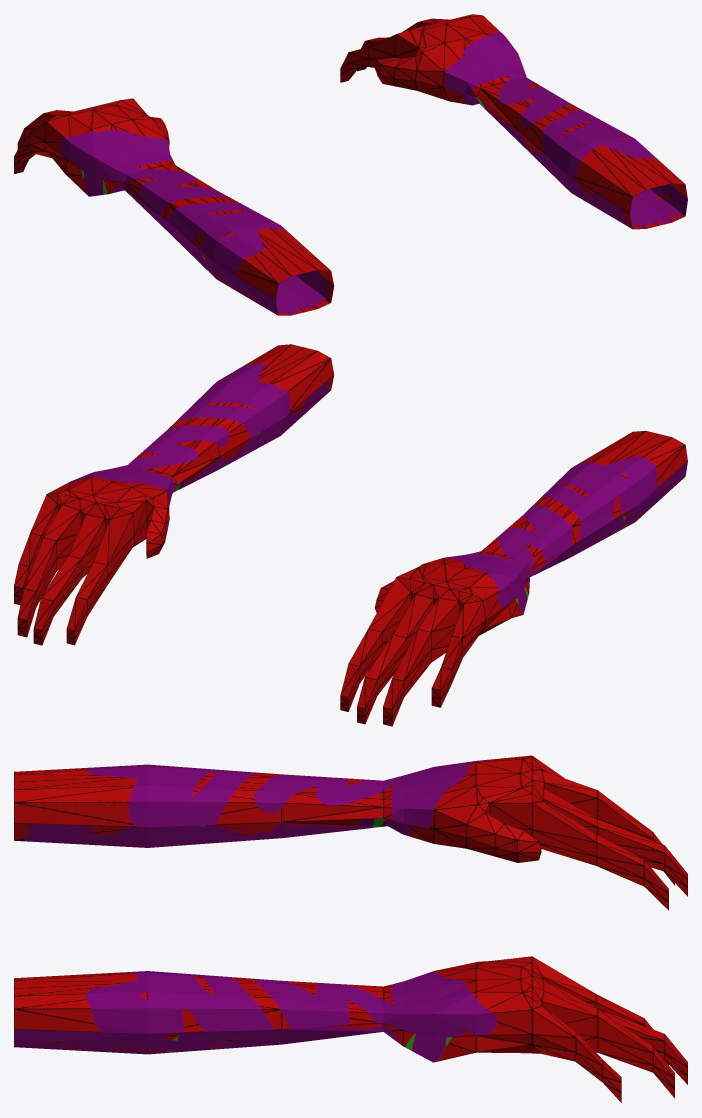
The model's file is hands.glb.
3 renders of one model, top to bottom at view 1: azimuth 30°, elevation 25°; view 2: azimuth 150°, elevation 25°; view 3: azimuth 270°, elevation 25°, orthographic. The views are drawn at different scales.
Parts seen in each view (by area): view 1: arm; view 2: arm; view 3: arm.
Part boxes in pixels (bbox=[...]): arm: bbox=[14, 14, 687, 315]; arm: bbox=[14, 344, 687, 726]; arm: bbox=[14, 755, 687, 1102].
Size of the model in its own units: 0.3066 by 0.0625 by 0.3357.
1 material, 1 textured.
